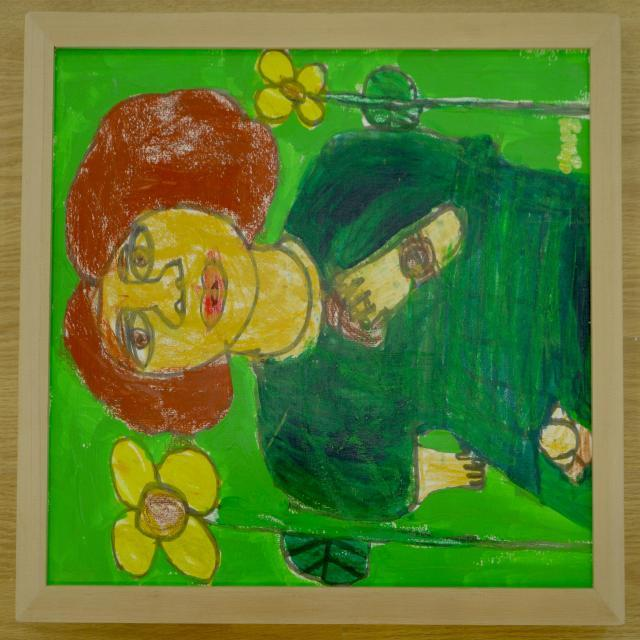painting: (16, 12, 625, 624)
